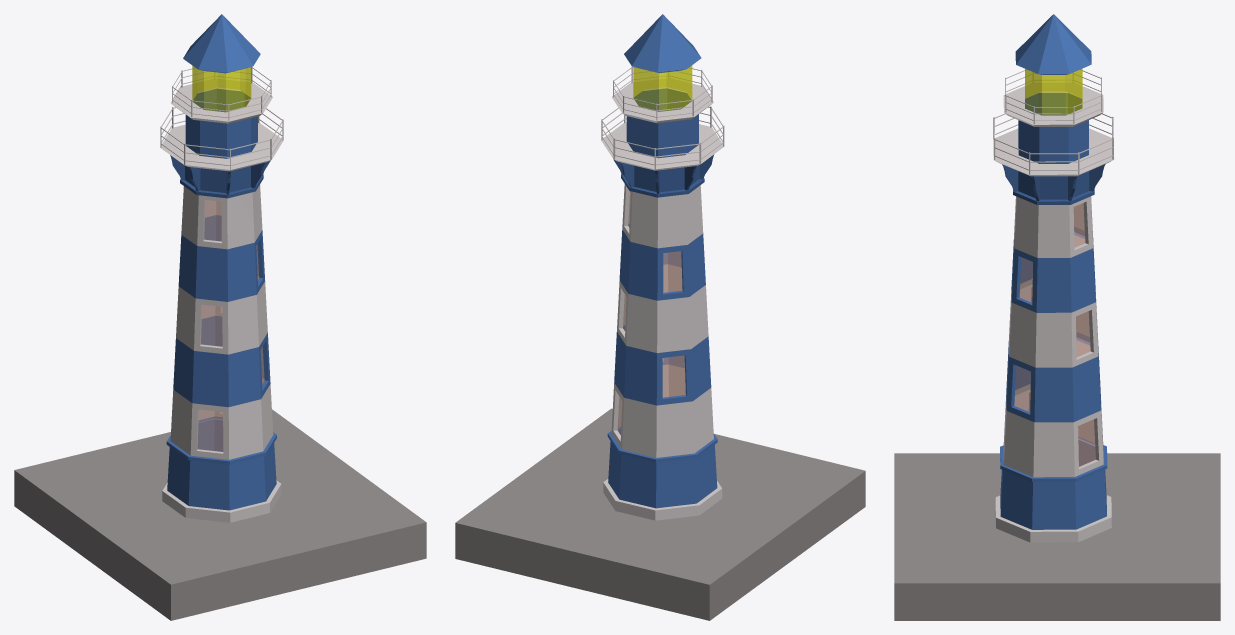
The model's file is CoastAssets.fbx_Lighthouse.fbx.
3 renders of one model, left to right at view 1: azimuth 30°, elevation 25°; view 2: azimuth 150°, elevation 25°; view 3: azimuth 270°, elevation 25°, orthographic. The views are drawn at different scales.
Visible parts, largest first — view 1: Lighthouse; view 2: Lighthouse; view 3: Lighthouse.
Boxes of the visible parts, x1,y1,x2,y2 form: Lighthouse: [14, 14, 426, 620]; Lighthouse: [455, 14, 865, 620]; Lighthouse: [894, 14, 1220, 620].
Size of the model in its own units: 1357 by 2637 by 1440.
